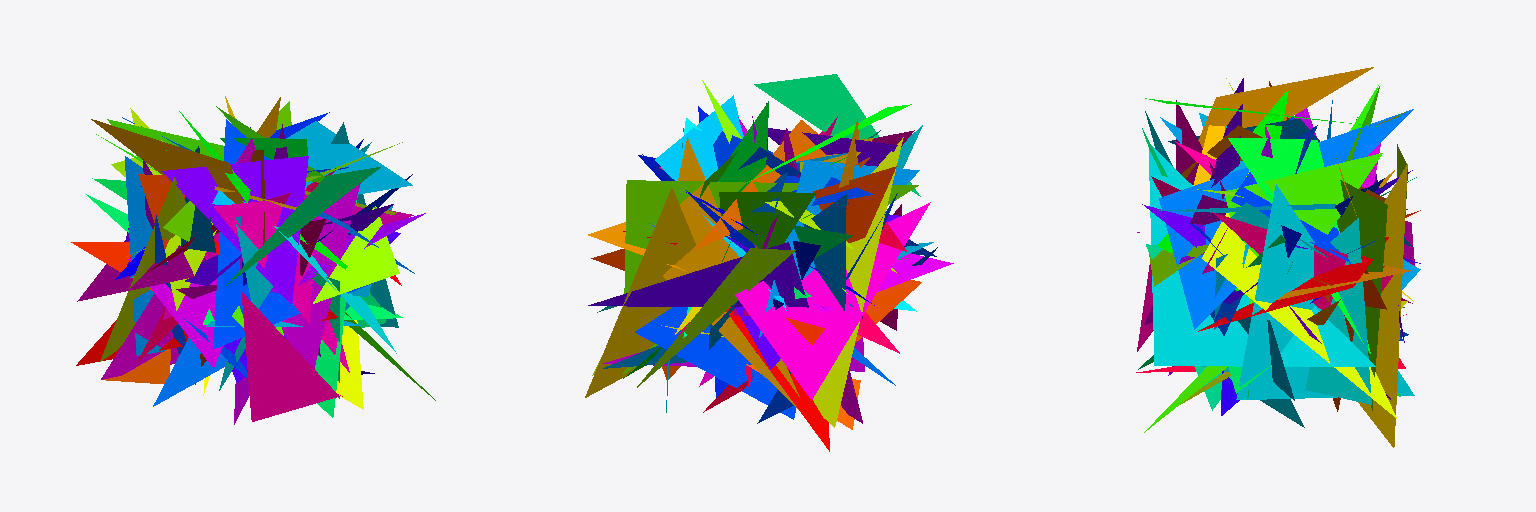
3 views of the same model, side by side, from view 1: azimuth 30°, elevation 25°; view 2: azimuth 150°, elevation 25°; view 3: azimuth 270°, elevation 25° (orthographic).
Visible parts, largest first — view 1: ofMesh; view 2: ofMesh; view 3: ofMesh.
Part boxes in pixels (x1,y1,x2,y2): ofMesh: (71,96,435,424); ofMesh: (585,74,953,451); ofMesh: (1136,67,1420,447).
Size of the model in its own units: 797 by 793 by 791.
Materials: 1 (1 with a texture image).